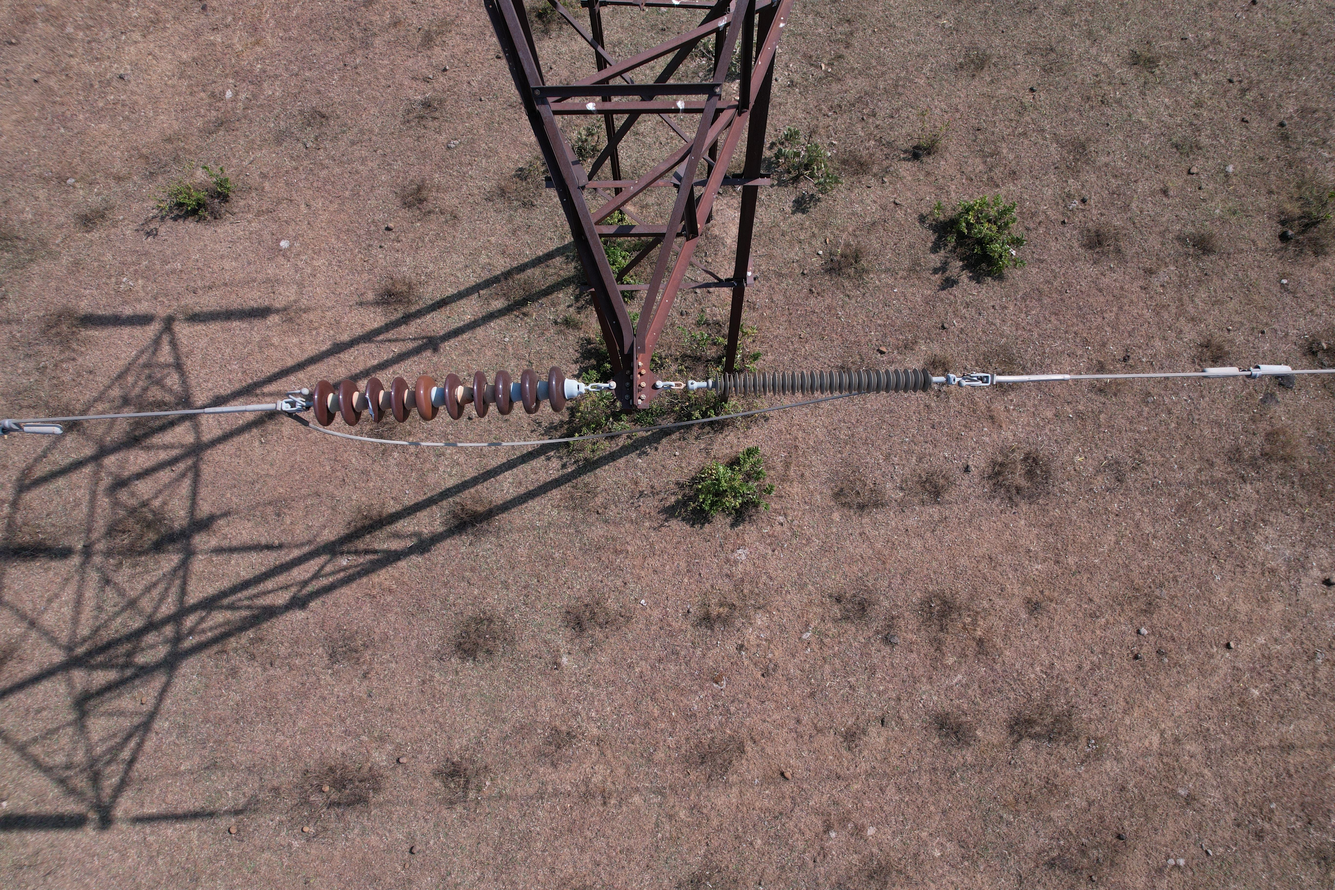broken_insulator: (358, 378, 388, 430)
